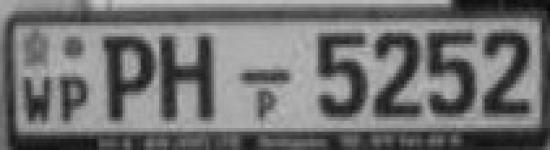-: (236, 62, 295, 95)
2: (482, 24, 535, 124), (373, 28, 425, 125)
5: (424, 25, 481, 125), (314, 25, 372, 122)
H: (156, 27, 224, 128)
P: (96, 30, 159, 128), (55, 72, 90, 124)
W: (20, 72, 56, 124)
